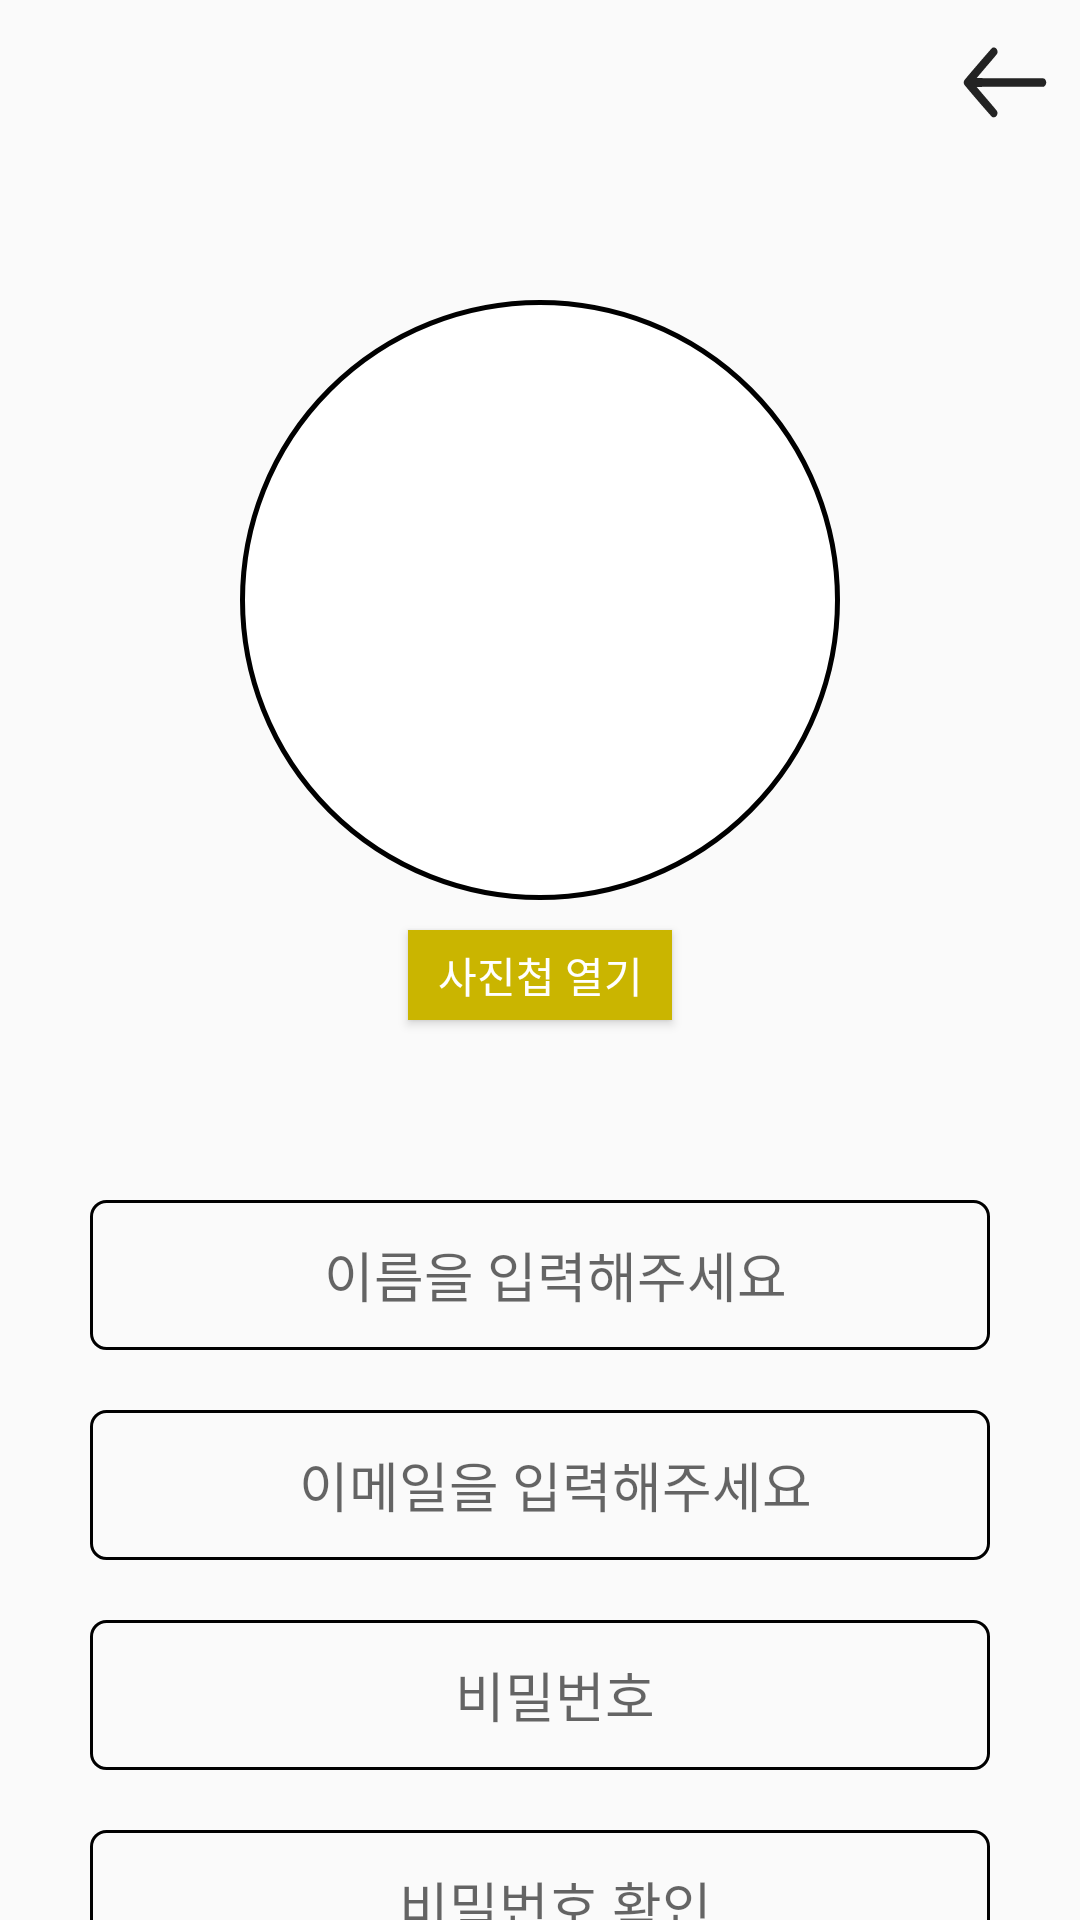

Named icons in this screenshot (1080×1920) and their centers, [x,y]:
back: [1005,82]
